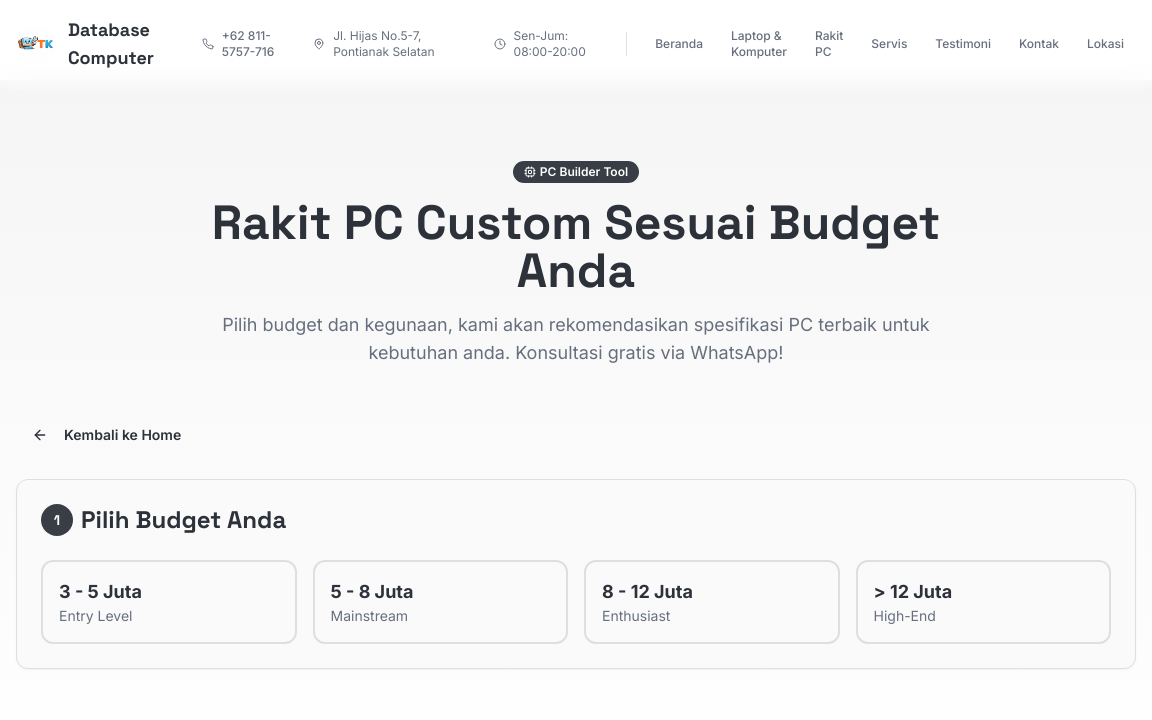
Test: PCBuilder › Use Case Selection › should show recommendations after use case is selected
This screenshot has width=1152, height=720.
Click the text "5 - 8 Juta".
click(372, 592)  # box left=330, top=581, right=414, bottom=602
(page scrolled)
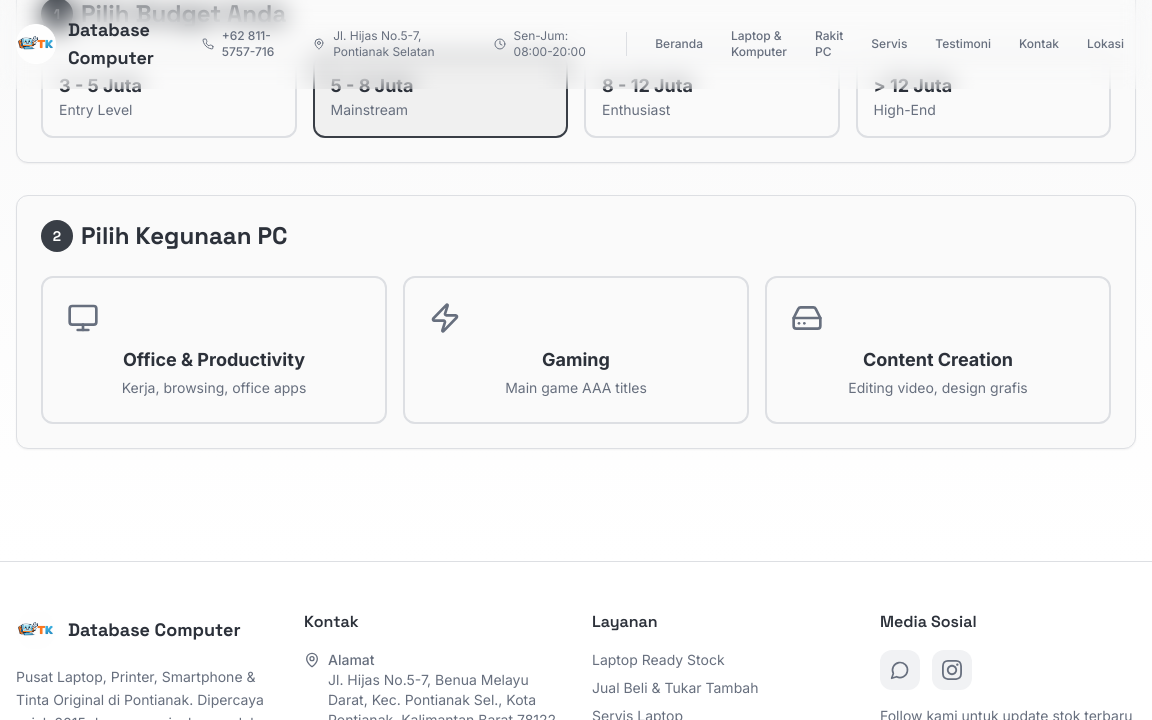
Click the text "Gaming".
click(576, 360)  # box left=542, top=349, right=610, bottom=370
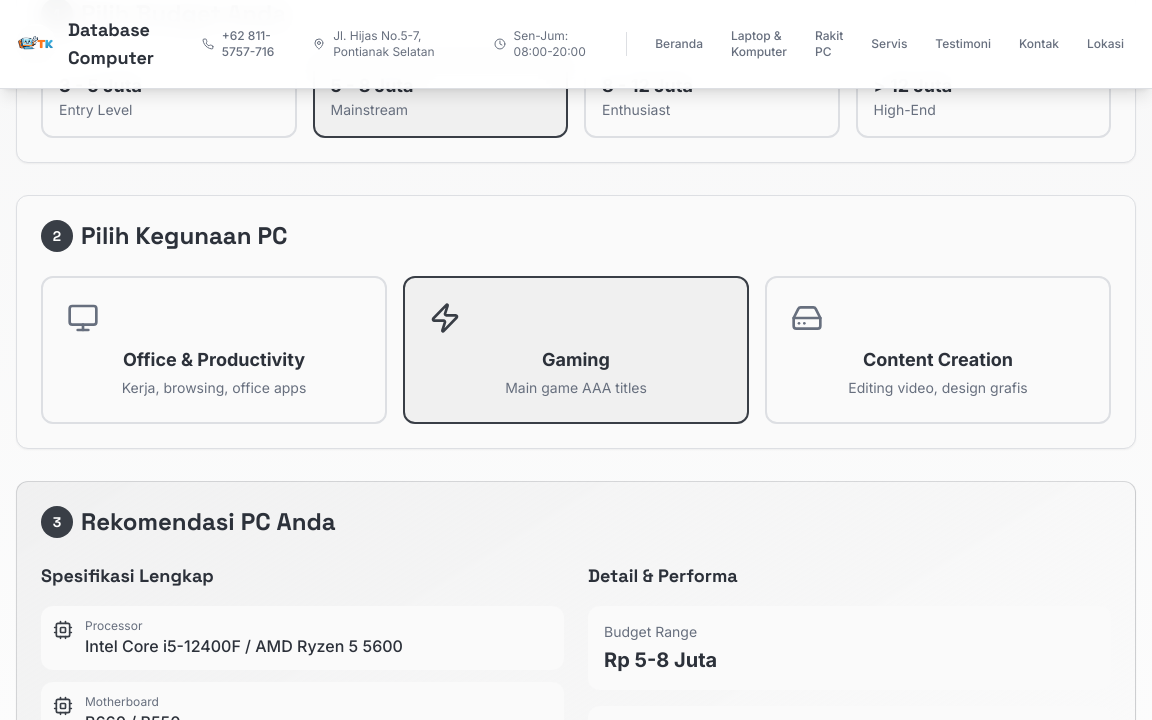
Expected: the heading "3 Rekomendasi PC Anda" is shown, left=41, top=506, right=336, bottom=538
Expected: the heading "Spesifikasi Lengkap" is shown, left=41, top=564, right=214, bottom=587
Expected: the heading "Detail & Performa" is shown, left=588, top=564, right=738, bottom=587
